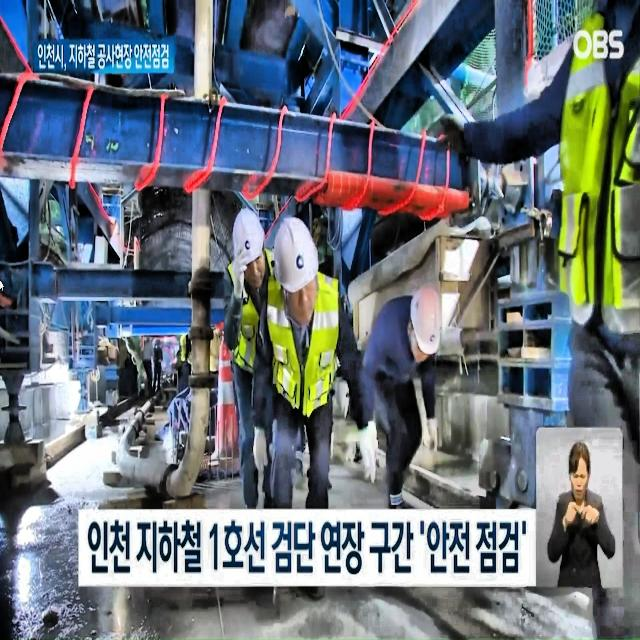safety_helmet: (402, 272, 449, 371), (272, 210, 325, 294), (223, 206, 268, 261)
safety_jacket: (553, 31, 640, 346), (268, 288, 342, 418), (224, 267, 282, 382)
